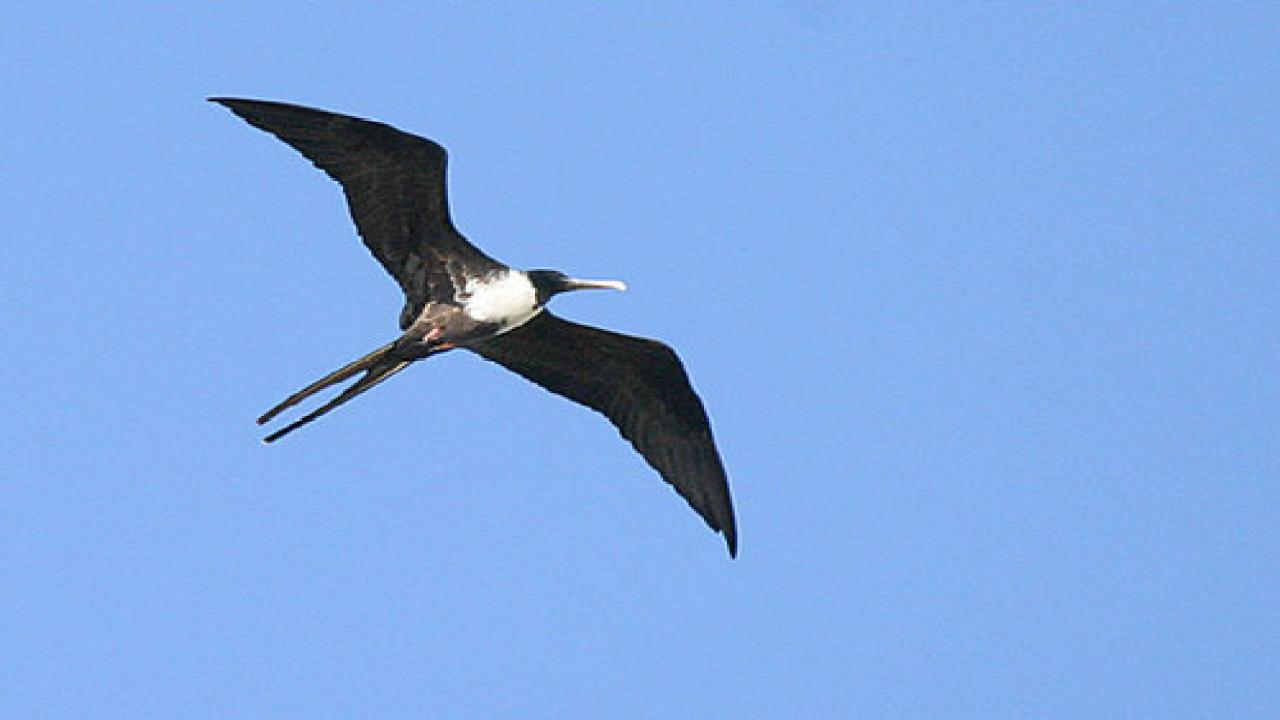Bird: (194, 88, 744, 566)
